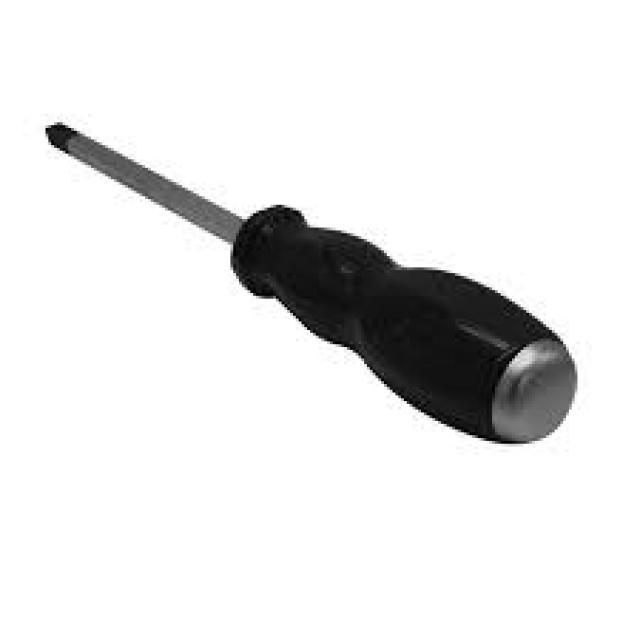screwdriver: (38, 121, 582, 448)
